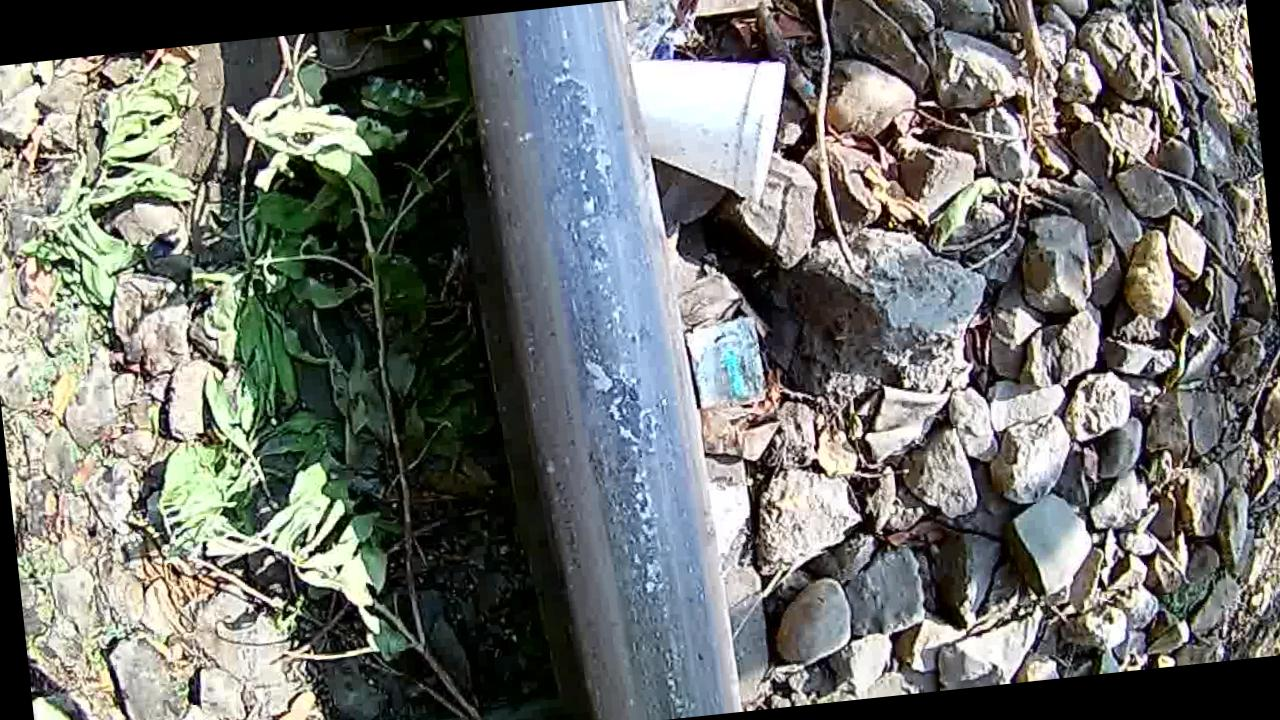crack: (472, 0, 732, 720)
